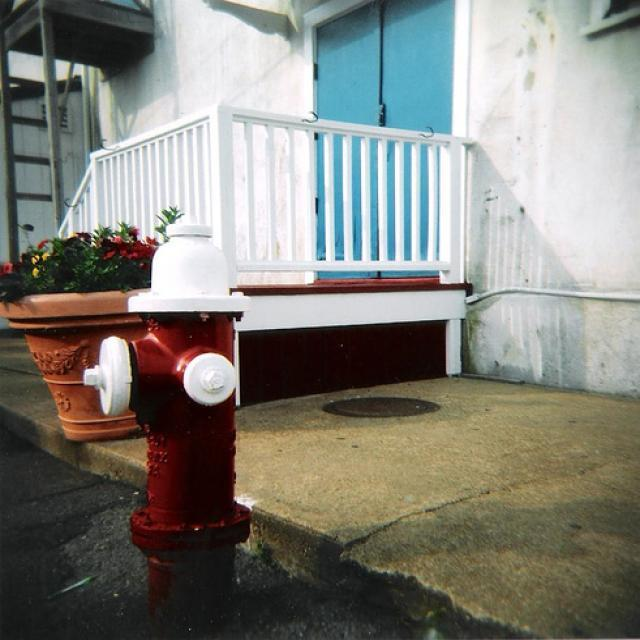fire_hydrant: (80, 210, 256, 603)
